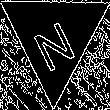N_NW: (28, 5, 81, 69)
